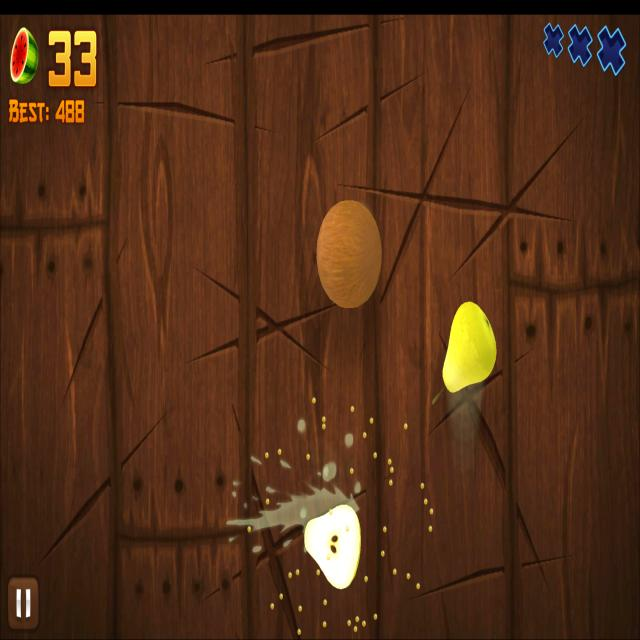fruit: (316, 198, 382, 311), (442, 299, 497, 394)
